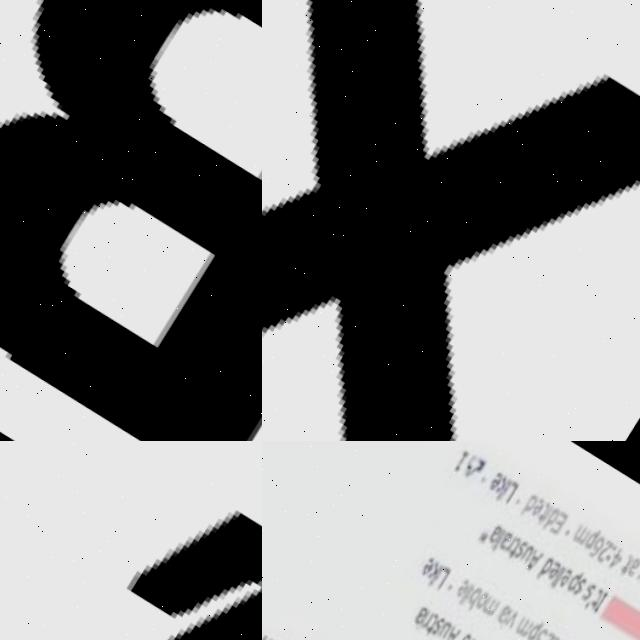1: (453, 441, 473, 463)
2: (598, 526, 617, 550), (542, 617, 561, 640)
4: (610, 529, 631, 558), (556, 627, 573, 640)
5: (533, 612, 554, 640)
6: (588, 516, 612, 547)
A: (526, 533, 548, 563), (444, 612, 467, 640), (416, 593, 434, 616), (489, 510, 507, 533), (499, 591, 517, 613), (501, 518, 517, 540), (627, 538, 640, 565), (476, 628, 498, 640), (262, 623, 273, 640), (571, 634, 590, 640)
B: (467, 572, 488, 602)
D: (539, 542, 560, 571), (521, 480, 542, 508), (545, 494, 564, 521)
E: (551, 496, 573, 526), (489, 458, 507, 481), (458, 565, 476, 587), (422, 545, 440, 567), (561, 553, 579, 575), (549, 547, 567, 569), (532, 485, 549, 507)
I: (595, 577, 613, 604), (421, 598, 436, 622), (503, 595, 518, 619), (434, 554, 449, 578), (494, 516, 509, 540), (543, 490, 558, 514), (501, 467, 515, 489), (466, 574, 479, 594)
K: (426, 550, 447, 579), (492, 463, 511, 491)
L: (554, 552, 571, 580), (461, 569, 478, 596), (552, 551, 569, 578), (494, 517, 510, 543), (438, 556, 455, 580), (504, 470, 521, 493)
M: (484, 582, 507, 608), (573, 509, 596, 535), (518, 604, 540, 627)
N: (468, 626, 485, 640)
O: (477, 578, 495, 600), (460, 621, 478, 640)
P: (569, 552, 590, 582), (530, 603, 551, 632), (585, 512, 605, 539)
R: (424, 601, 439, 621), (507, 521, 521, 542)
S: (435, 606, 451, 628), (585, 568, 601, 590), (575, 562, 591, 584), (516, 527, 531, 549)
T: (620, 538, 639, 565), (536, 488, 555, 515), (427, 601, 445, 627), (592, 573, 610, 598), (509, 525, 526, 548), (262, 630, 279, 640), (567, 631, 583, 640)
U: (440, 609, 458, 632), (522, 531, 540, 553)
V: (508, 597, 525, 619)
X: (262, 0, 640, 441)
Z: (0, 441, 262, 640)
